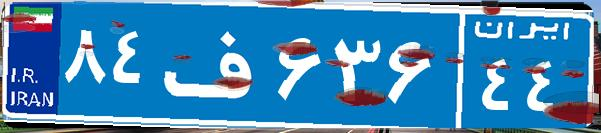3: (330, 28, 385, 110)
4: (475, 38, 525, 113), (110, 28, 158, 105), (525, 38, 570, 115)
6: (385, 28, 445, 110), (273, 28, 330, 110)
8: (57, 26, 110, 107)
ف: (158, 15, 273, 115)
